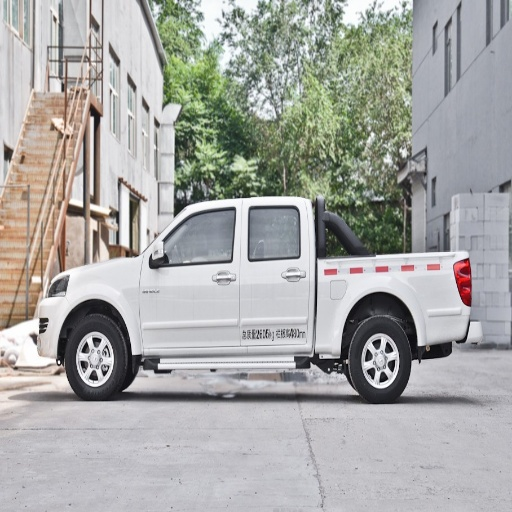back_left_door: (240, 203, 310, 343)
front_left_door: (139, 207, 242, 347)
trunk: (313, 256, 469, 355)
